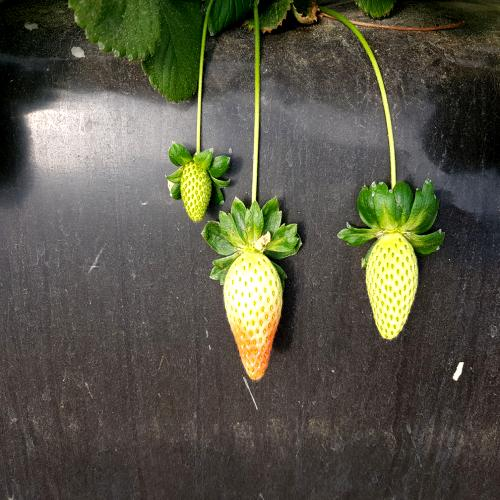partially-ripe: (215, 240, 290, 392)
unripe: (362, 214, 426, 348)
